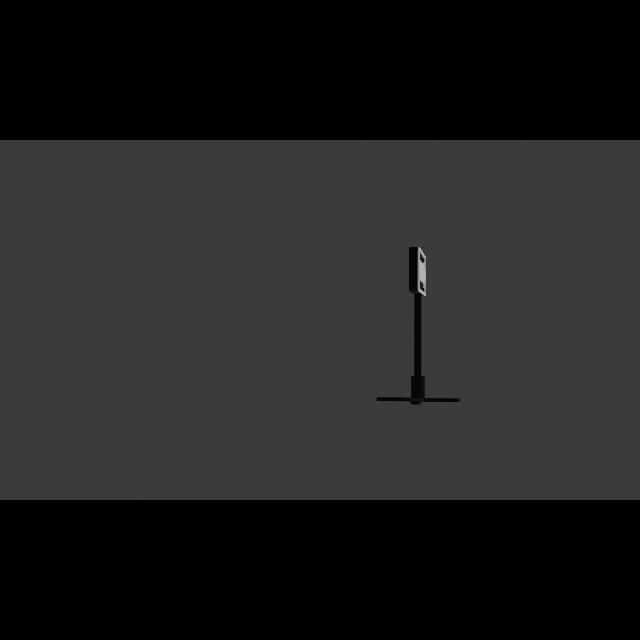sign_oneway_right: (410, 247, 429, 298)
